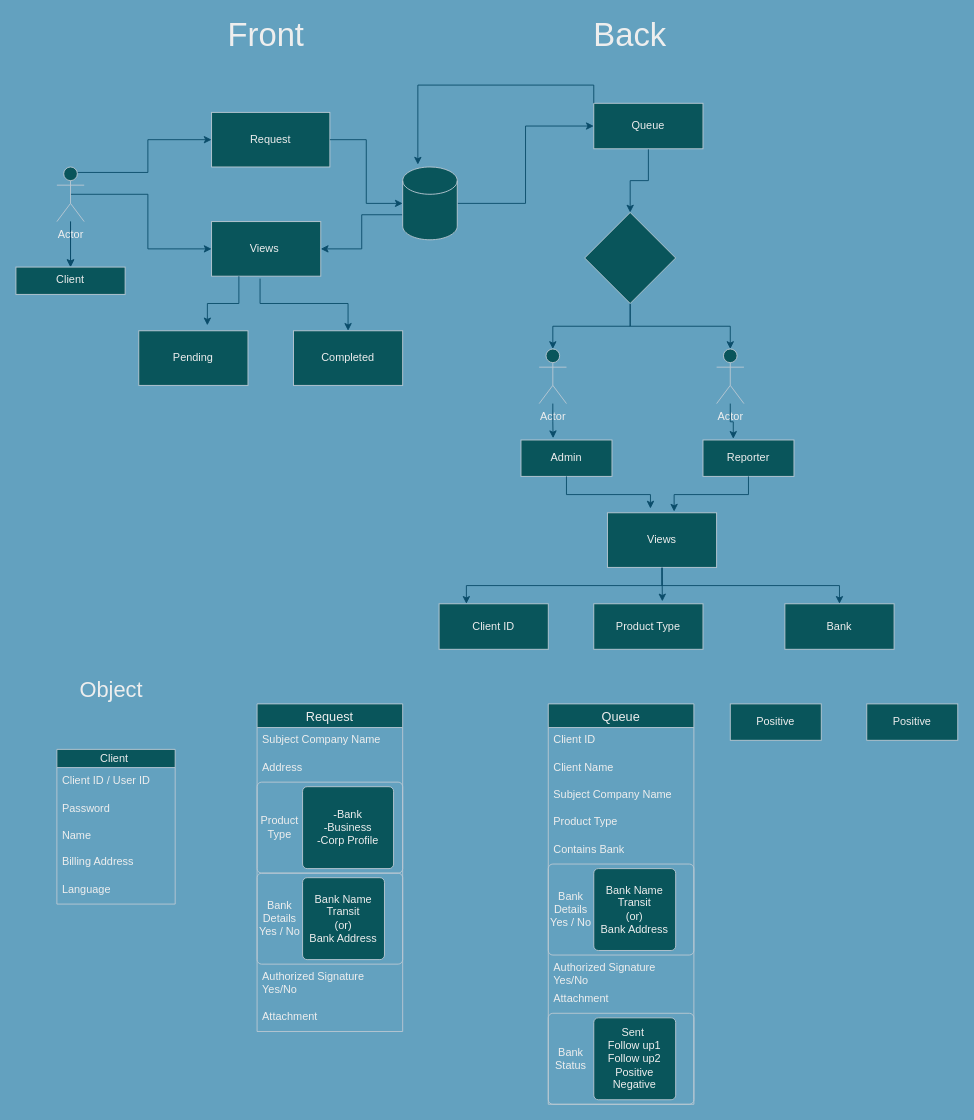
This 974x1120 diagram has some shape labels left out. The shapes that lost their labels are listed below. From the top down, each one's centre as x and y in pixels, then its label:
At point (429, 203): "Database".
At point (630, 257): "Permisions".
